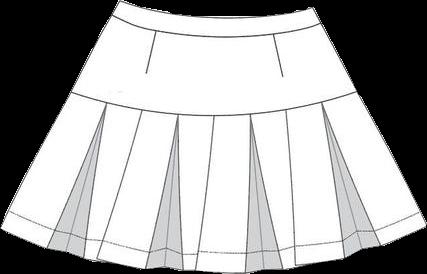Hemline: (0, 224, 426, 273)
Waistline: (70, 89, 355, 116), (111, 14, 320, 38), (118, 0, 312, 20)
